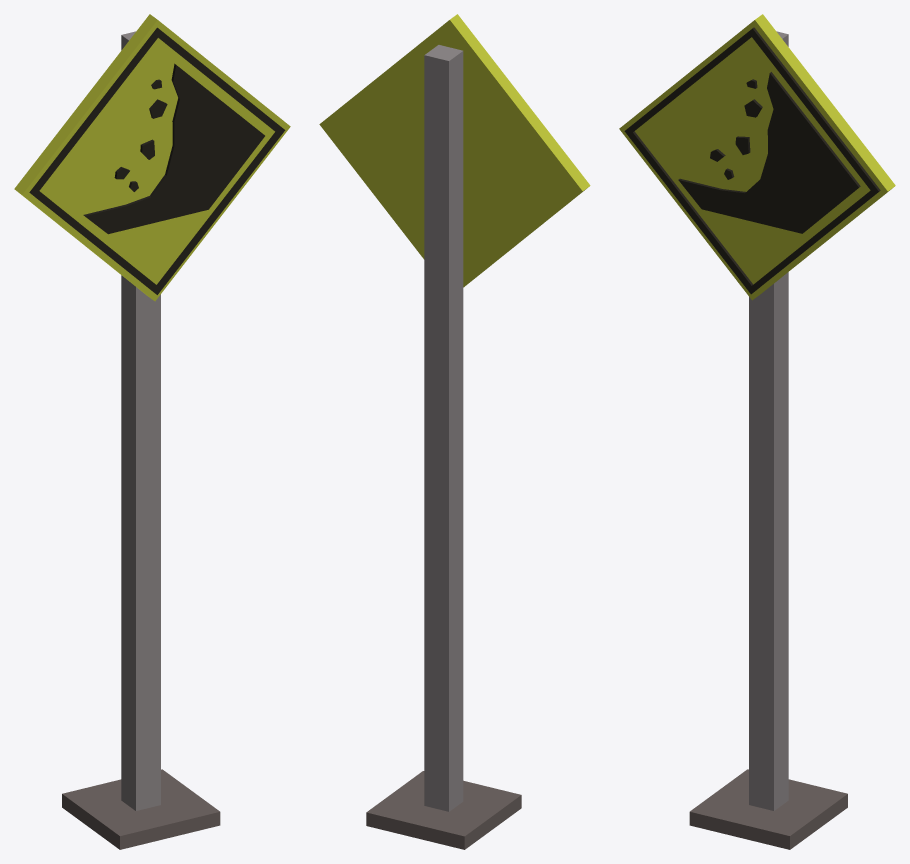
The model's file is RoadSign(5).fbx.
The picture shows the model from 3 angles, left to right: view 1: azimuth 30°, elevation 25°; view 2: azimuth 150°, elevation 25°; view 3: azimuth 330°, elevation 25°; orthographic projection. The views are drawn at different scales.
Visible parts, largest first — view 1: RoadSign(5); view 2: RoadSign(5); view 3: RoadSign(5).
Part boxes in pixels (box(x1,y1,x2,y2)): RoadSign(5): box(14, 14, 290, 849); RoadSign(5): box(319, 14, 590, 849); RoadSign(5): box(619, 14, 895, 849).
Size of the model in its own units: 64.93 by 187 by 24.26.
